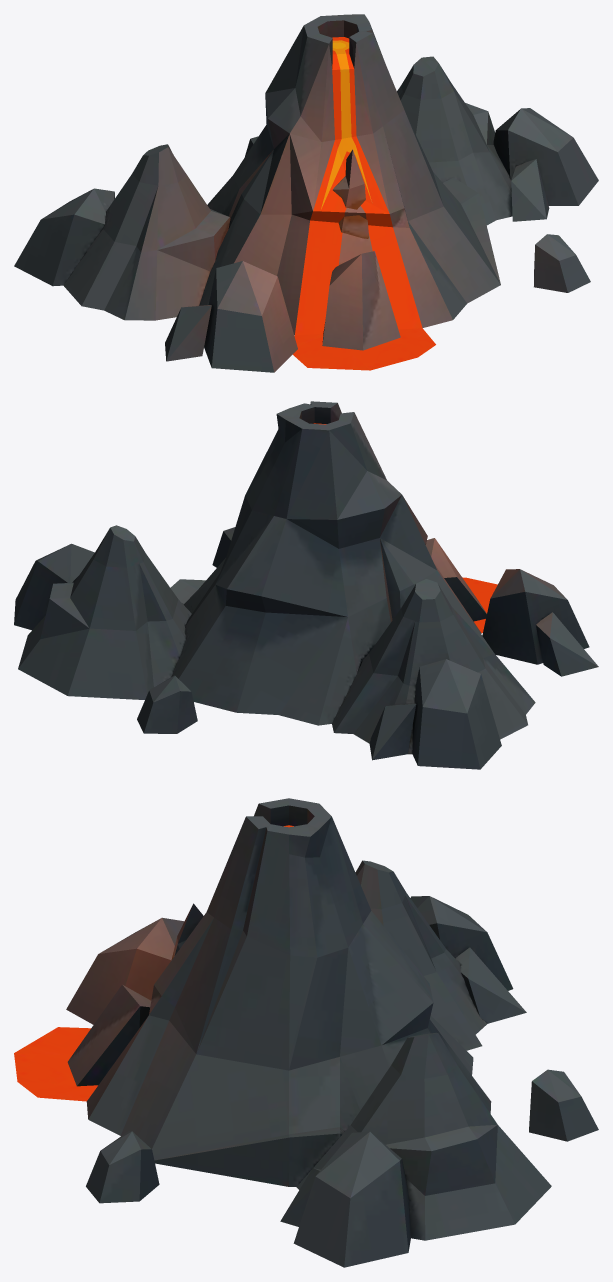
File: dwSigTeSMCo.glb
3 renders of one model, top to bottom at view 1: azimuth 30°, elevation 25°; view 2: azimuth 150°, elevation 25°; view 3: azimuth 270°, elevation 25°, orthographic. The views are drawn at different scales.
Visible parts, largest first — view 1: volcano; view 2: volcano; view 3: volcano.
Part boxes in pixels (x1,y1,x2,y2): volcano: (14,14,598,372); volcano: (14,401,598,769); volcano: (14,798,598,1267).
Bounding box in the file's own units: 2 × 0.8637 × 1.61.
1 material, 1 textured.
